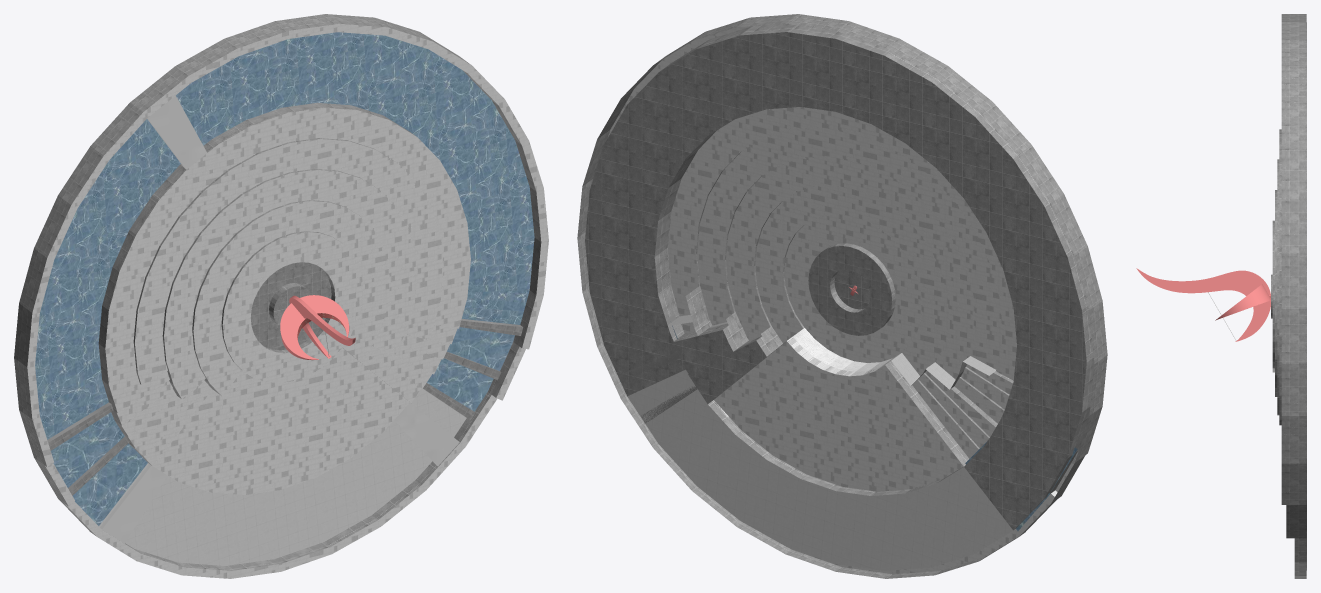
3 renders of one model, left to right at view 1: azimuth 30°, elevation 25°; view 2: azimuth 150°, elevation 25°; view 3: azimuth 270°, elevation 25°, orthographic. The views are drawn at different scales.
Visible parts, largest first — view 1: 柱体.004, SHUI, 柱体.003, 柱体.006, 柱体; view 2: 柱体.004; view 3: 柱体.004, 柱体.
Part boxes in pixels (x1,y1,x2,y2): 柱体.004: [14, 14, 548, 578]; SHUI: [35, 32, 534, 439]; 柱体.003: [51, 327, 514, 525]; 柱体.006: [100, 95, 459, 543]; 柱体: [280, 295, 355, 359]; 柱体.004: [577, 14, 1107, 578]; 柱体.004: [1271, 14, 1306, 578]; 柱体: [1136, 268, 1270, 341].
Bounding box in the file's own units: 10.53 × 10.53 × 3.18.
Materials: 10 (8 with a texture image).
